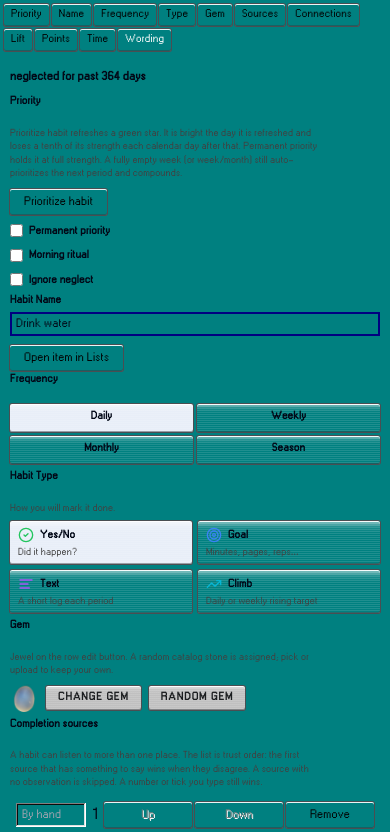
it: TaskForm › morning ritual and permanent priority do not ask why
The width and height of the screenshot is (390, 832).
Click the checkbox labelled "Morning ritual".
click(16, 255)  # box [10,249,23,262]
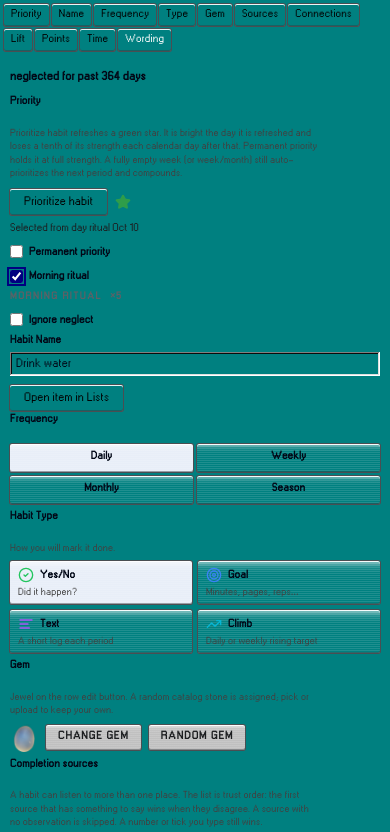
Expected: the list item "Selected from day ritual Oct 10" is shown, [10,223,139,233]
Click the checkbox labelled "Permanent priority".
click(16, 252)  # box [10,245,23,258]
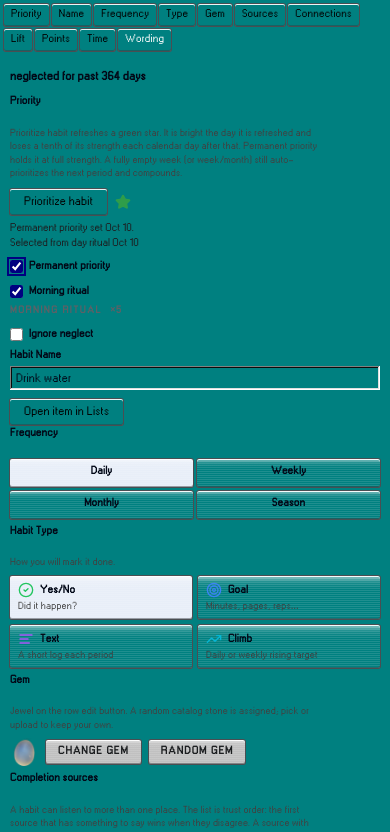
Expected: the list item "Permanent priority set Oct 10." is shown, [10,223,134,233]
